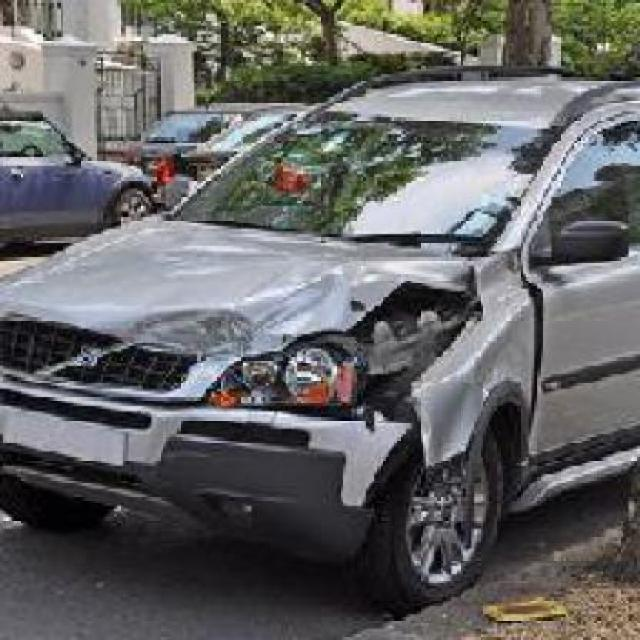damaged-front-bumper: (0, 374, 409, 540)
damaged-head-light: (218, 350, 347, 404)
damaged-hood: (0, 216, 463, 358)
